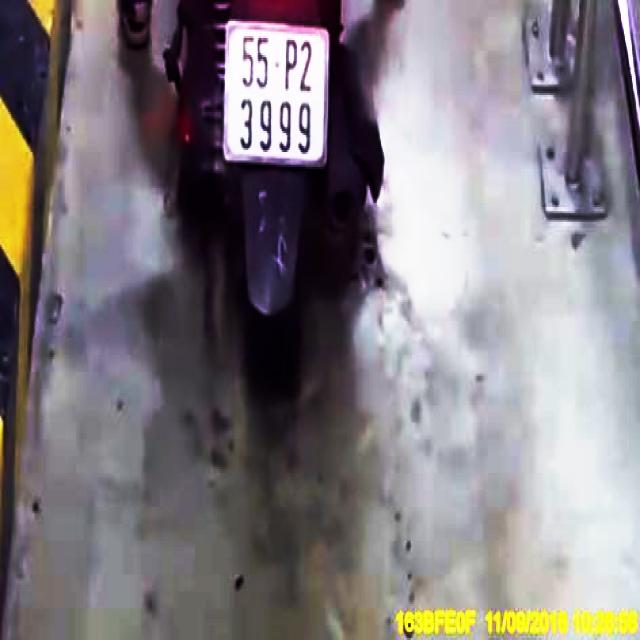license_plate: (224, 25, 324, 160)
